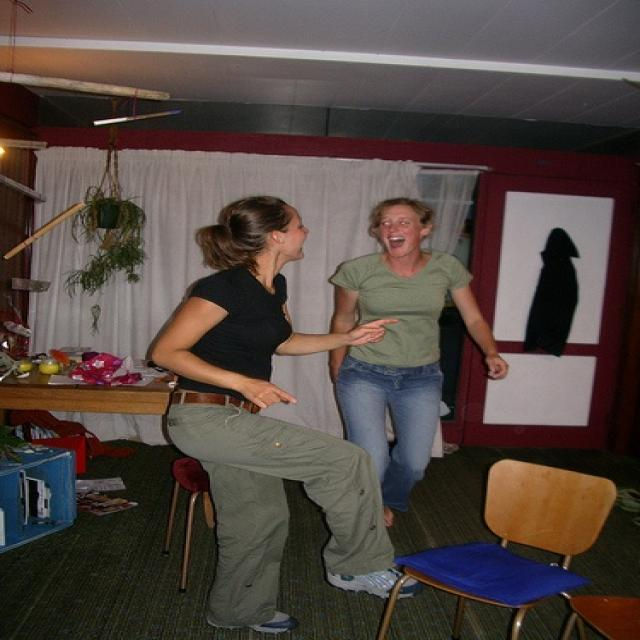chair: (376, 458, 616, 639), (162, 457, 210, 594), (562, 595, 638, 639)
pottedplant: (60, 198, 148, 294)
